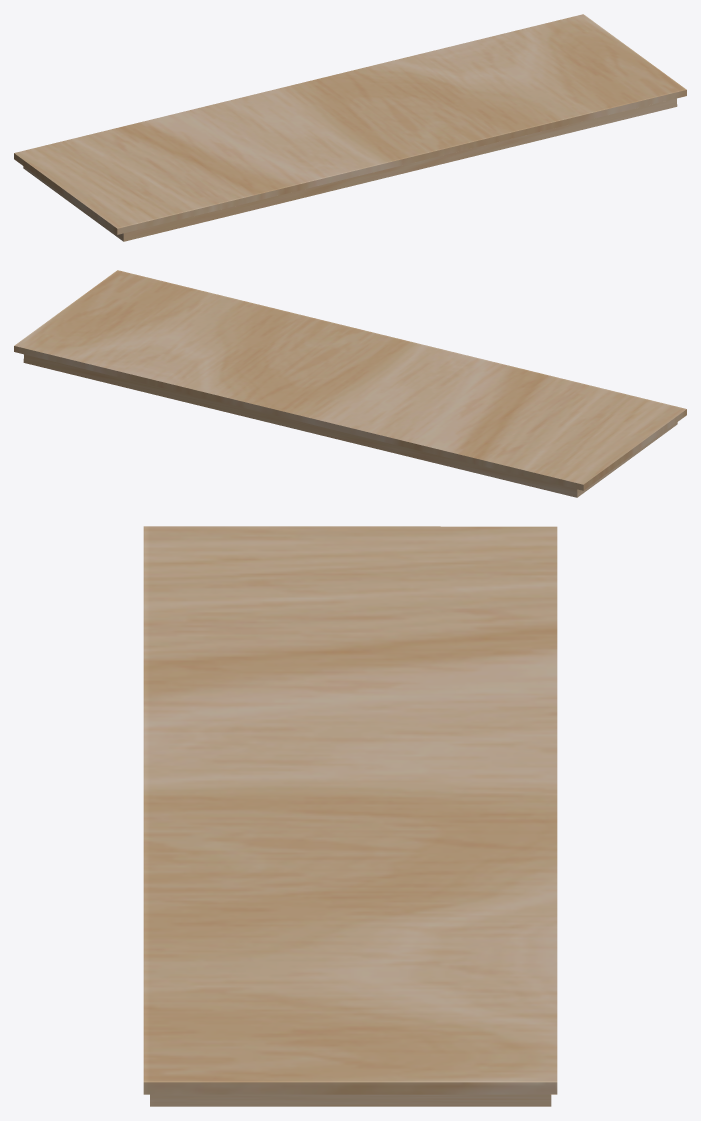
The model's file is SCH0110007.fbx.
The picture shows the model from 3 angles, top to bottom: view 1: azimuth 30°, elevation 25°; view 2: azimuth 150°, elevation 25°; view 3: azimuth 270°, elevation 25°; orthographic projection. The views are drawn at different scales.
Parts seen in each view (by area): view 1: smSCH0110007; view 2: smSCH0110007; view 3: smSCH0110007.
Boxes of the visible parts, left/top/right/bottom form: smSCH0110007: left=14, top=14, right=686, bottom=241; smSCH0110007: left=14, top=270, right=686, bottom=497; smSCH0110007: left=143, top=526, right=557, bottom=1106.
Size of the model in its own units: 657 by 17.77 by 207.
Materials: 1 (1 with a texture image).
